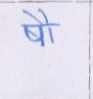au_matra: (31, 9, 58, 43)
